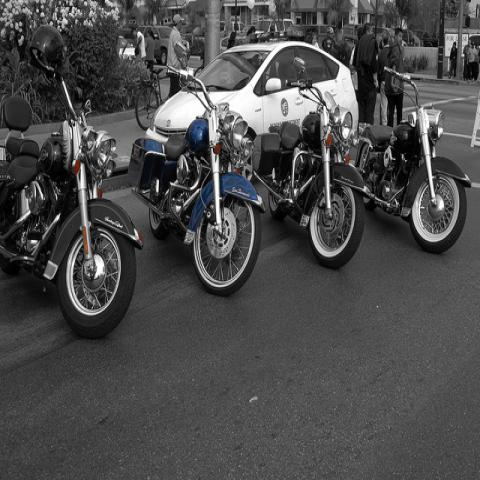car: (147, 42, 359, 143), (139, 26, 191, 67), (305, 25, 342, 48), (253, 18, 294, 36), (116, 27, 138, 60), (376, 27, 407, 47), (224, 17, 246, 36), (402, 28, 420, 44)
motorcycle: (1, 26, 146, 337), (128, 41, 267, 293), (252, 56, 373, 270), (354, 62, 473, 254)
